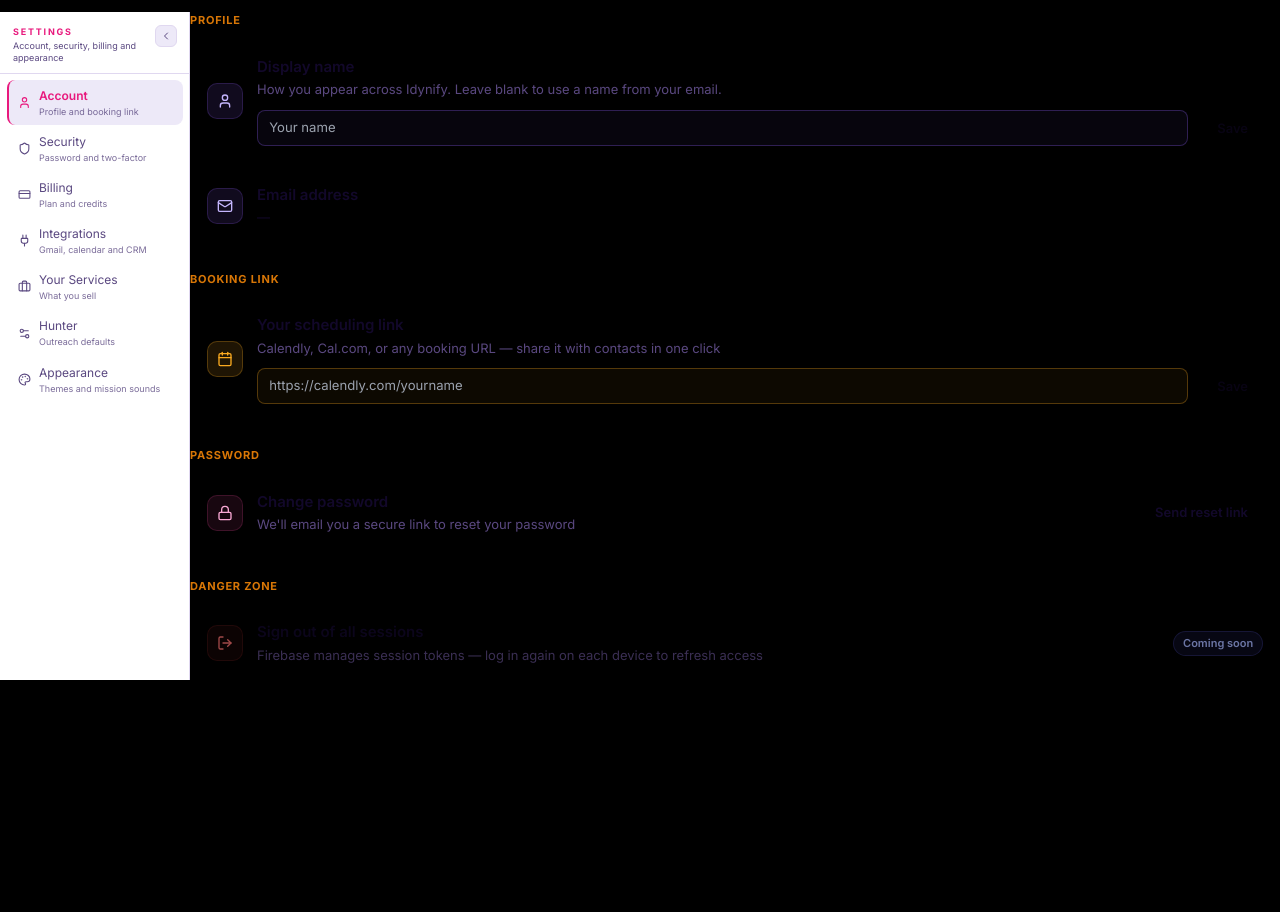
Scenario: UserSettings — Mission sounds toggle › renders the Mission sounds label (exact spec wording)
Step 1. Click the text "Hunter" → (58, 326), box x1=39 y1=318 x2=77 y2=334
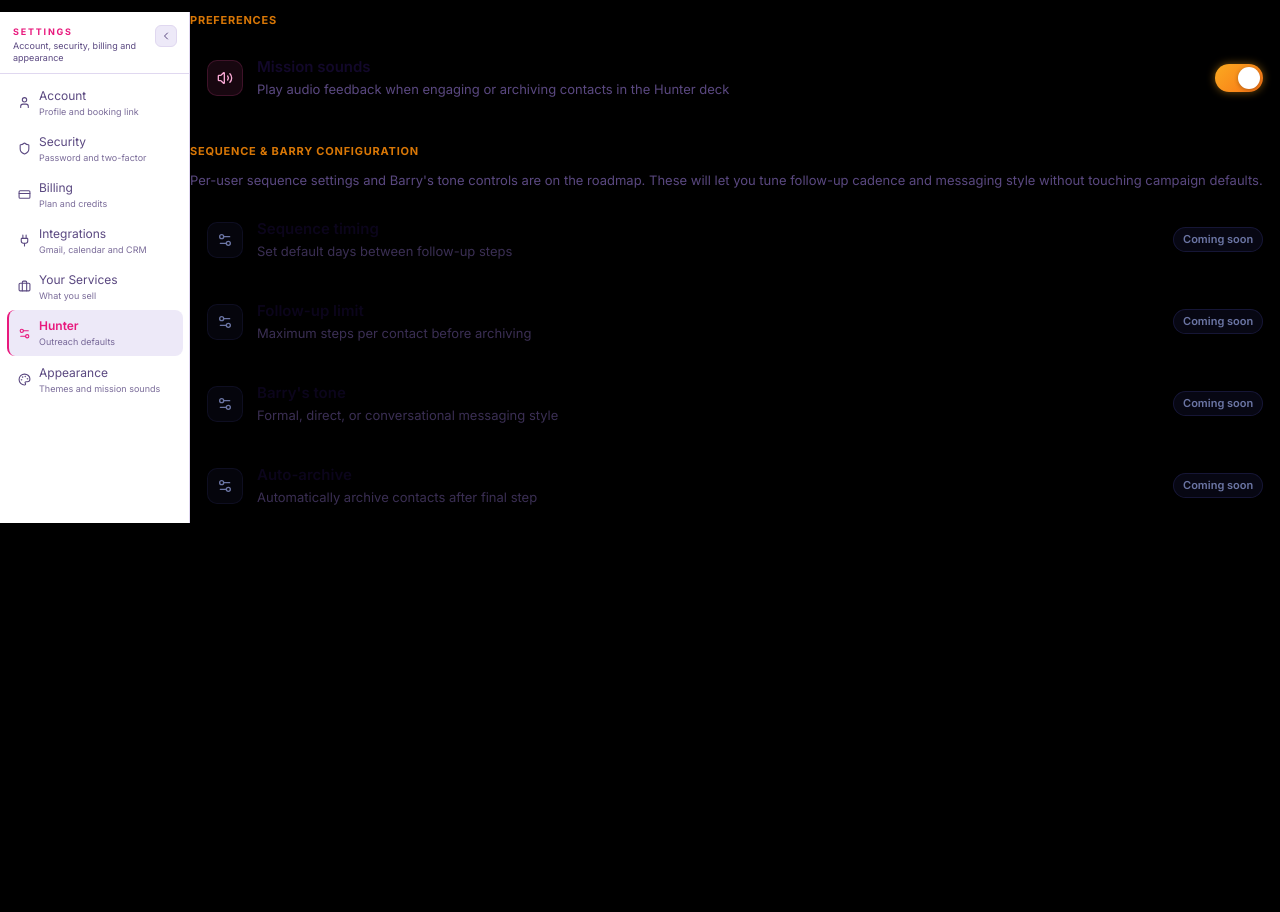
Result: the text "Mission sounds" is shown at x1=257 y1=56 x2=371 y2=76
